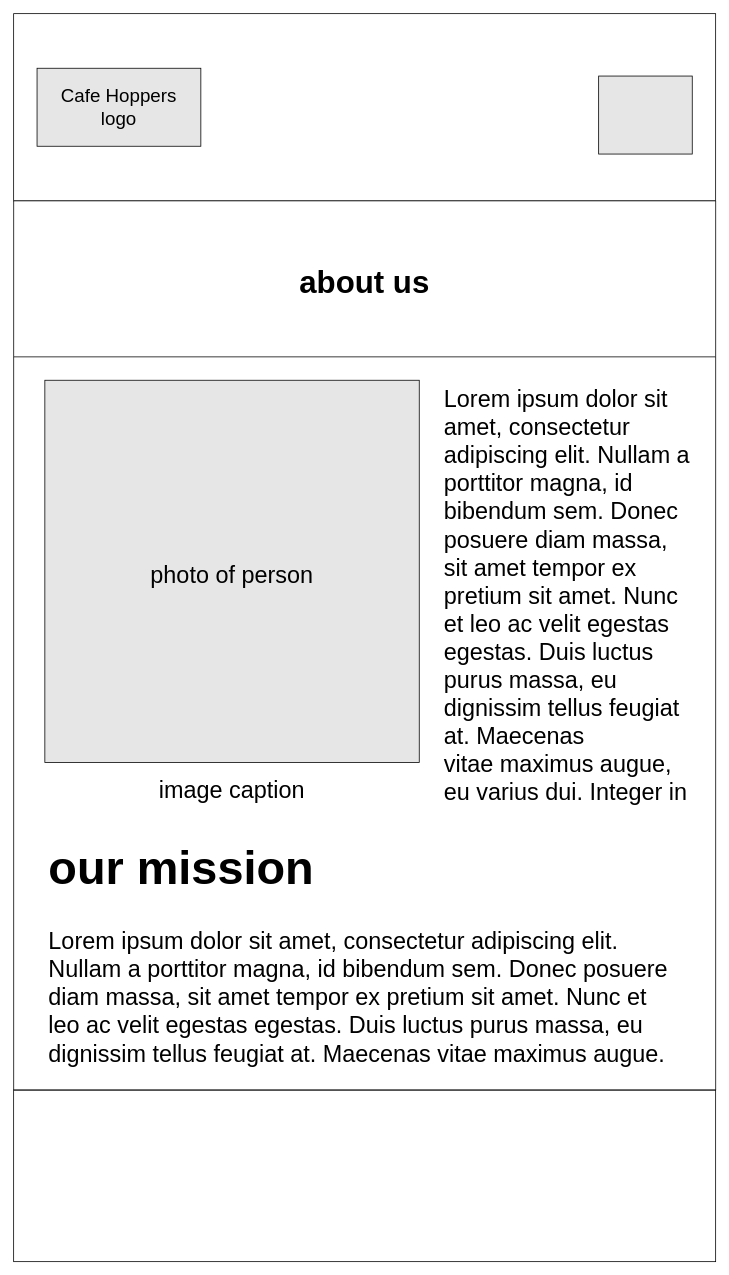
Some shapes in this 729 by 1275 pixel diagram are drawn without their labels. The shapes that lost their labels are listed below. From the top down, each one's centre as x and y in pixels, then its label:
point (645, 114): menu icon
point (364, 1175): footer content
